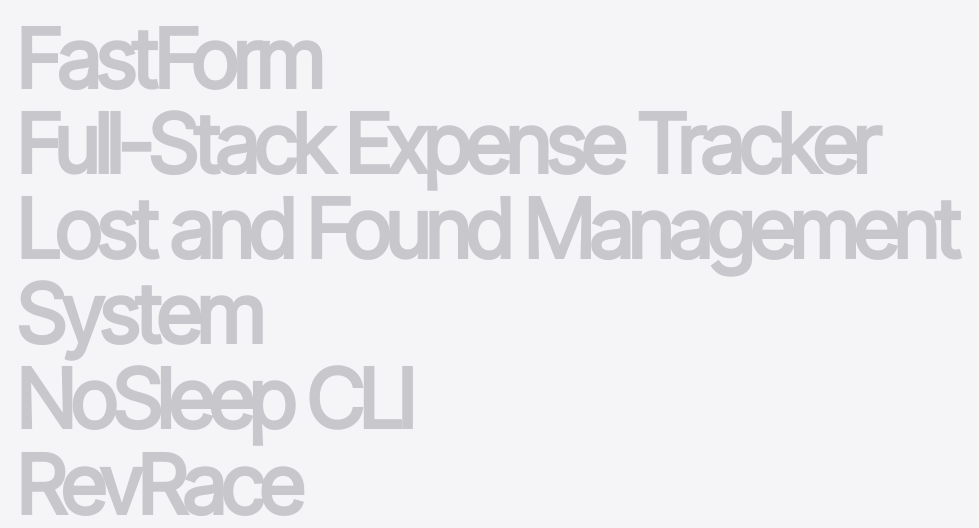
Scenario: ProjectWall › on touch › opens the card under a name on the first tap instead of following the link
Click the link "FastForm". click: click(168, 59)
box: x1=16 y1=16 x2=320 y2=102
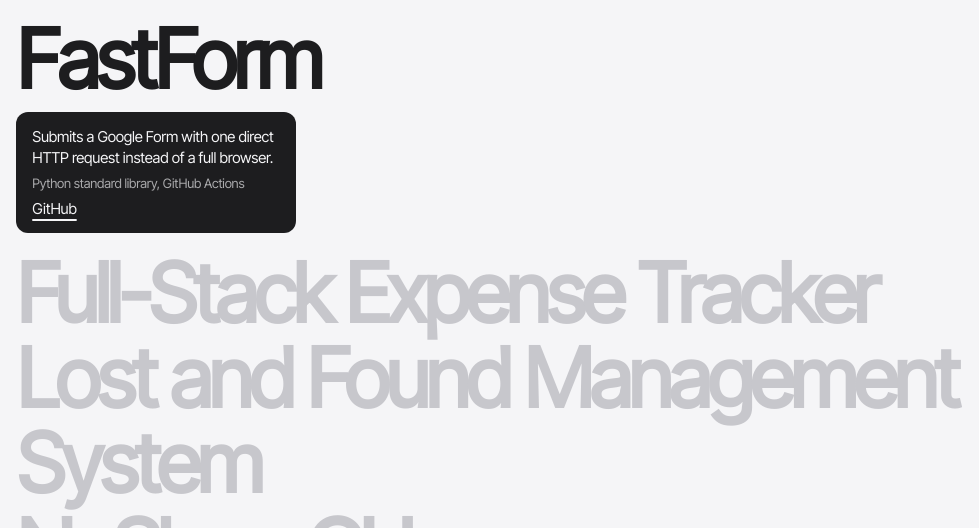
Expected: the element with id "wall-card-0" is shown, x1=16 y1=112 x2=296 y2=233
